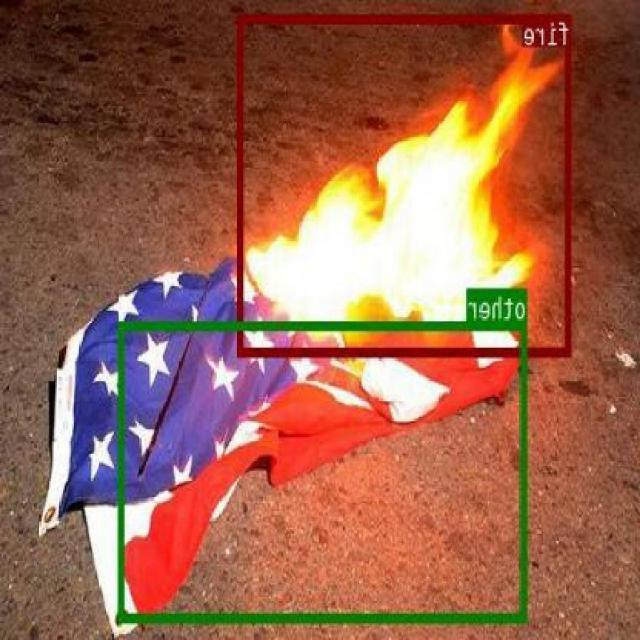Fire: (239, 13, 572, 356)
